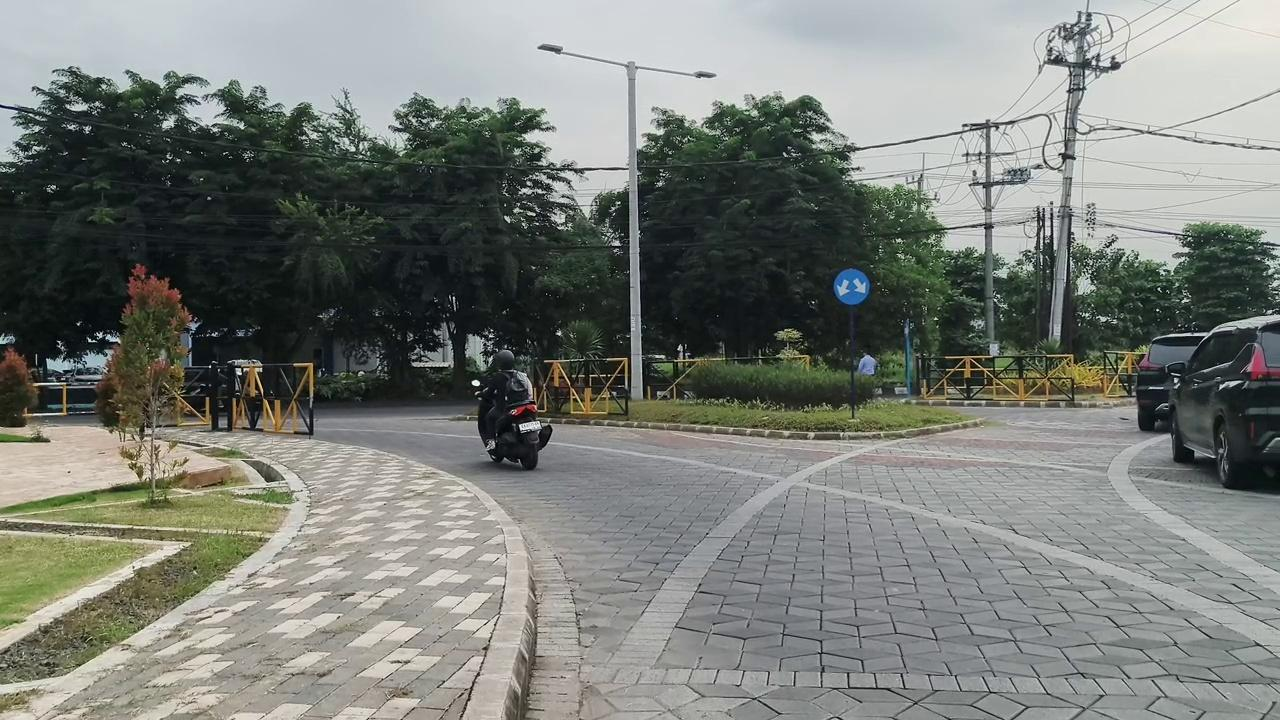Helmet: (478, 349, 516, 450)
Motor: (488, 400, 551, 469)
